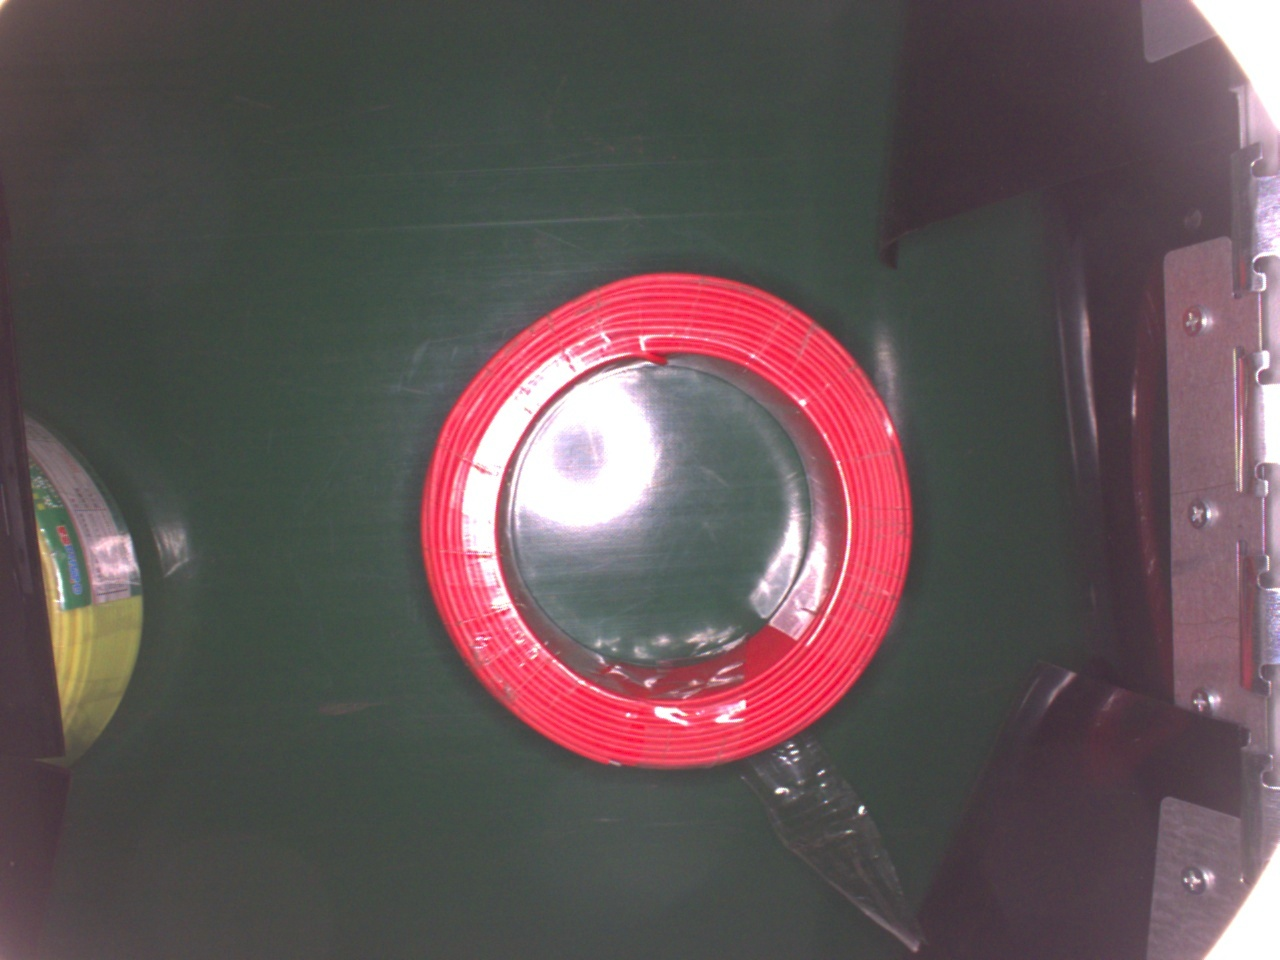red: (418, 273, 906, 768)
